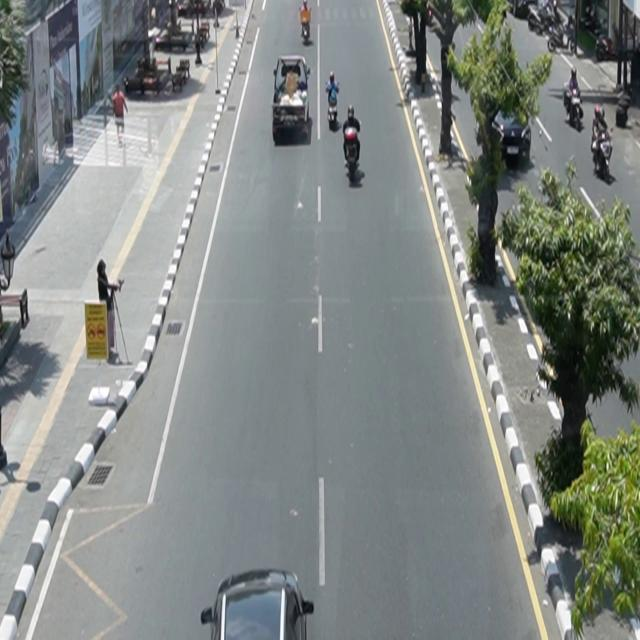car: (201, 569, 315, 640), (273, 56, 312, 143)
